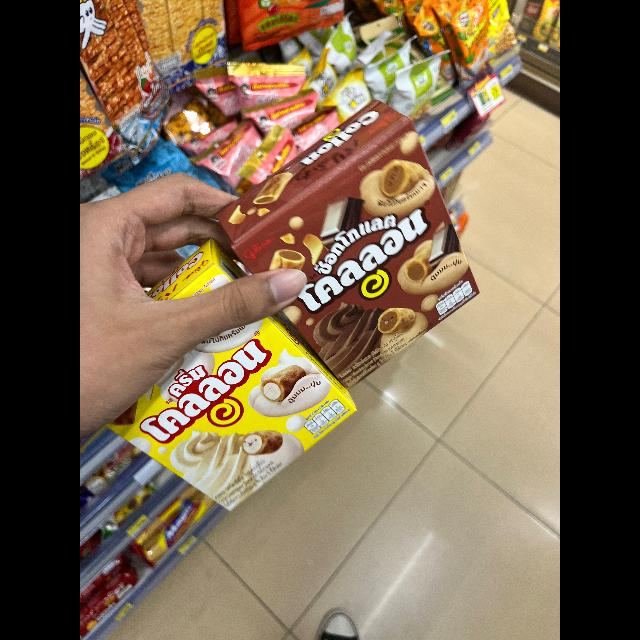cardboard_box: (212, 97, 506, 385), (101, 247, 361, 556)
